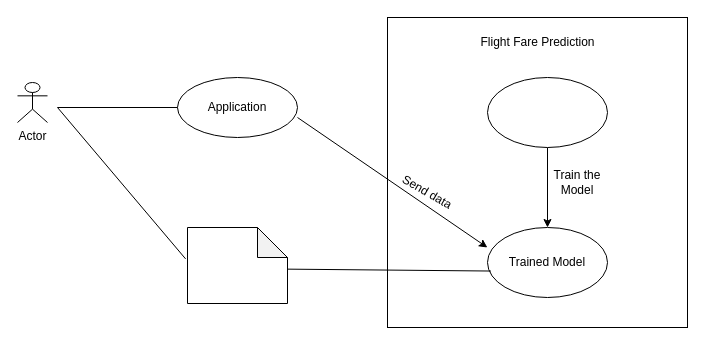
Some shapes in this 705 by 345 pixel diagram are drawn without their labels. Here are the shapes that lost their labels. From the top down, the box of each, then its label:
(486, 76, 608, 148): Machine Learning Algorithm
(186, 226, 288, 304): Prediction Results
